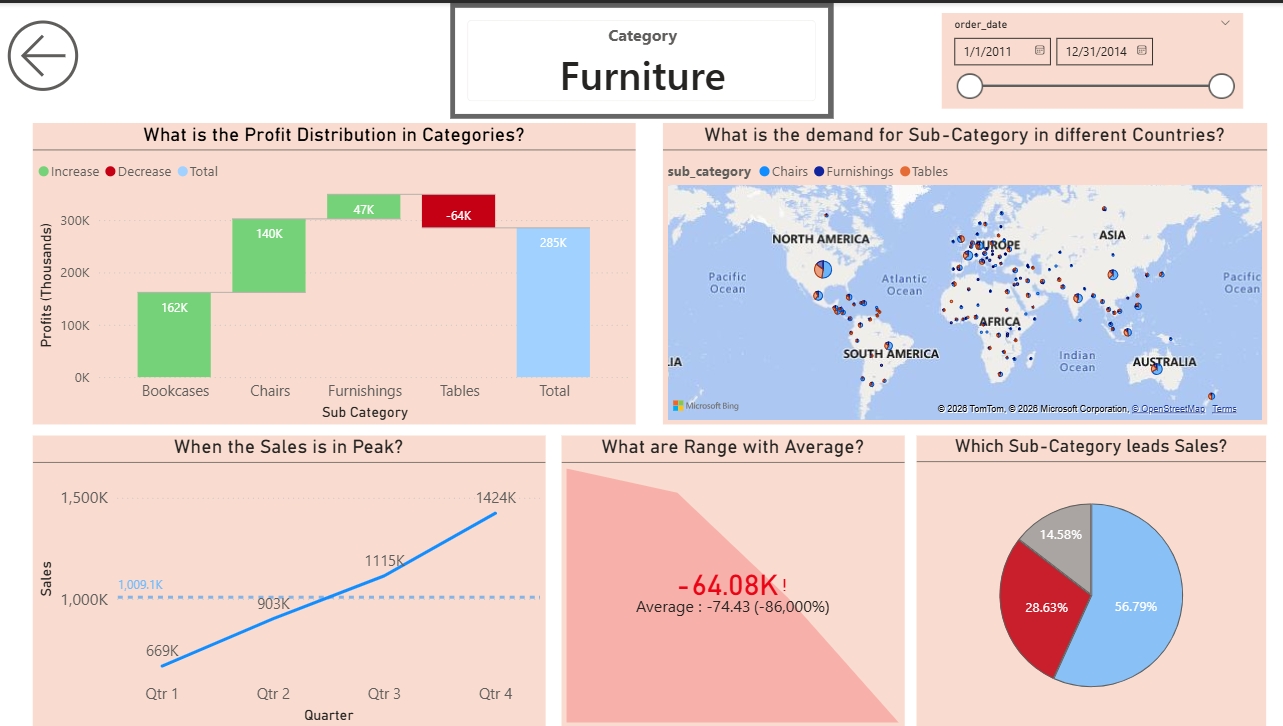

The dashboard page shown, as its layout file describes it:
{"tool":"powerbi","page":{"name":"Drill Through by Category","canvas":[1280,720],"ordinal":1},"visuals":[{"type":"actionButton","box":[0,8.8,87.5,87.5],"z":0},{"type":"cardVisual","fields":{"Data":["Min(Working_Orders.category)"]},"box":[448.8,0,381.2,115],"z":1000},{"type":"waterfallChart","title":"What is the Profit Distribution in Categories?","fields":{"Category":["Working_Orders.sub_category"],"Y":["Sum(Working_Orders.profit)"]},"box":[33.8,120,600,300],"z":2000},{"type":"kpi","title":"What are Range with Average?","fields":{"Goal":["Avg(Working_Orders.profit)"],"Indicator":["Sum(Working_Orders.profit)1"],"TrendLine":["Working_Orders.sub_category"]},"box":[560,430,341.2,290],"z":3000},{"type":"lineChart","title":"When the Sales is in Peak?","fields":{"Category":["Working_Orders.order_date.Variation.Date Hierarchy.Year","Working_Orders.order_date.Variation.Date Hierarchy.Quarter","Working_Orders.order_date.Variation.Date Hierarchy.Month"],"Y":["_metrics.Total Sales"]},"box":[33.8,430,510,290],"z":4000},{"type":"map","title":"What is the demand for Sub-Category in different Countries?","fields":{"Category":["Working_Orders.country"],"Size":["Sum(Working_Orders.sales)"],"Series":["Working_Orders.sub_category"]},"box":[660,120,601.2,300],"z":5000},{"type":"pieChart","title":"Which Sub-Category leads Sales?","fields":{"Category":["Working_Orders.sub_category"],"Y":["Sum(Working_Orders.sales)"]},"box":[912.5,430,367.5,290],"z":5001},{"type":"slicer","fields":{"Values":["Working_Orders.order_date"]},"box":[937.5,10,300,95],"z":5002}]}

Visuals, with their boxes in screenshot pixels (x1, y1, x2, y2), scaled from the page's 1280x720 canvas onto the 1283x726 screenshot:
actionButton: 0:9:88:97
cardVisual - Min(Working_Orders.category): 450:0:832:116
"What is the Profit Distribution in Categories?" waterfallChart: 34:121:635:424
"What are Range with Average?" kpi: 561:434:903:725
"When the Sales is in Peak?" lineChart: 34:434:545:725
"What is the demand for Sub-Category in different Countries?" map: 662:121:1264:424
"Which Sub-Category leads Sales?" pieChart: 915:434:1282:725
slicer - Working_Orders.order_date: 940:10:1240:106
